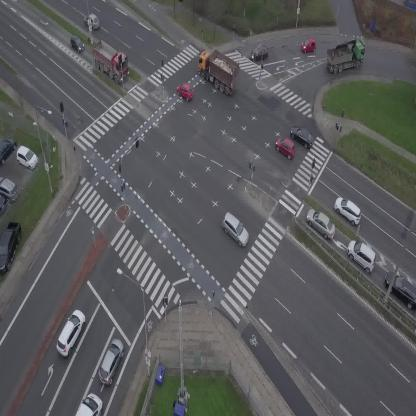car: (51, 307, 90, 358), (94, 336, 128, 387), (342, 236, 383, 275), (216, 210, 254, 249), (301, 205, 341, 242), (330, 193, 366, 228), (287, 122, 317, 151), (272, 134, 299, 159), (174, 80, 197, 102), (65, 33, 87, 55), (81, 11, 103, 32), (250, 45, 269, 60), (300, 38, 317, 53)
lorry: (188, 43, 247, 97), (83, 35, 137, 86), (323, 37, 369, 74), (75, 393, 102, 416)
